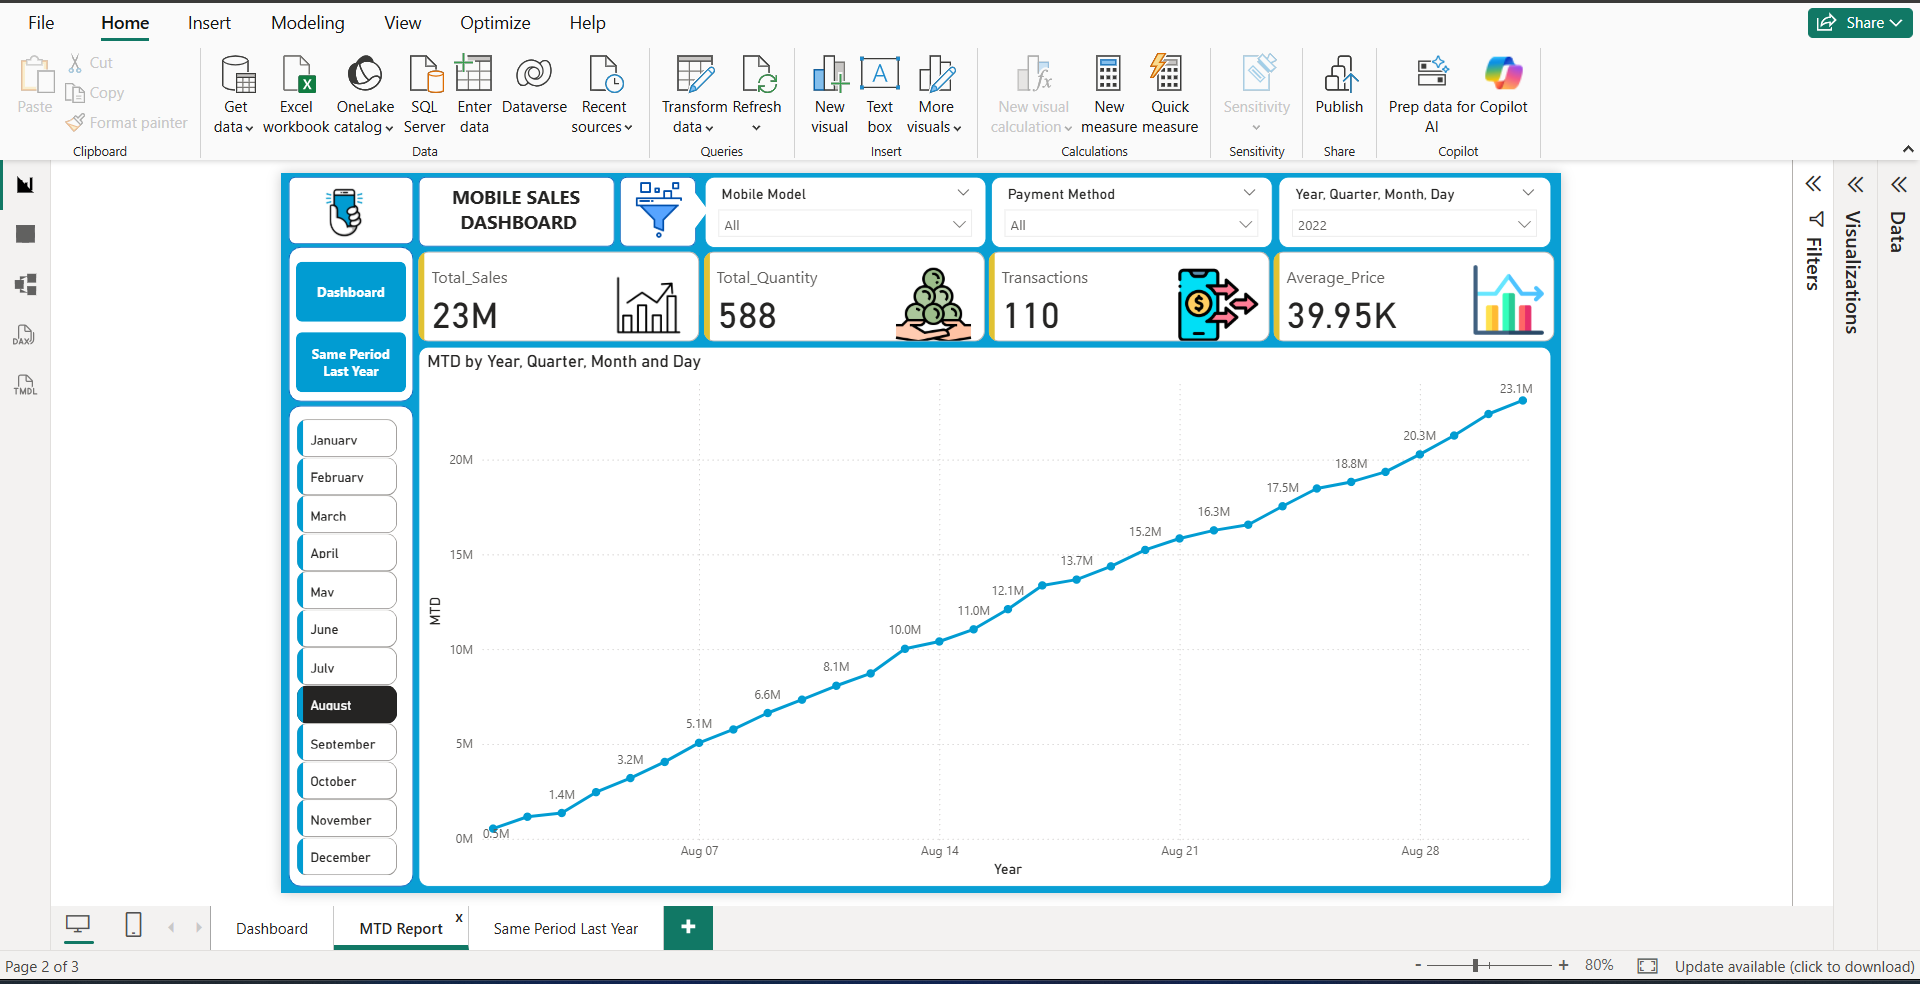

Layout of this report page (visuals, bound fields, positions):
{"tool":"powerbi","page":{"name":"MTD Report","canvas":[1280,720],"ordinal":1},"visuals":[{"type":"shape","box":[7.5,3.8,125,67.5],"z":0},{"type":"image","box":[23.8,3.8,78.8,71.2],"z":1000},{"type":"shape","box":[7.5,73.8,125,155],"z":2000},{"type":"cardVisual","fields":{"Data":["Sales_Data.Total_Sales","Sales_Data.Total_Quantity","Sales_Data.Transactions","Sales_Data.Average_Price"]},"box":[132.5,73.8,1147.5,100],"z":3000},{"type":"slicer","fields":{"Values":["Sales_Data.Mobile Model"]},"box":[423.8,3.8,281.2,71.2],"z":4000},{"type":"slicer","fields":{"Values":["Sales_Data.Payment Method"]},"box":[710,3.8,281.2,71.2],"z":5000},{"type":"slicer","fields":{"Values":["Custom_Calendar.Date.Variation.Date Hierarchy.Year","Custom_Calendar.Date.Variation.Date Hierarchy.Quarter","Custom_Calendar.Date.Variation.Date Hierarchy.Month","Custom_Calendar.Date.Variation.Date Hierarchy.Day"]},"box":[997.5,3.8,272.5,71.2],"z":6000},{"type":"shape","box":[338.8,3.8,76.2,70],"z":7000},{"type":"image","box":[337.5,3.8,81.2,66.2],"z":8000},{"type":"shape","box":[397.5,17.5,30,40],"z":9000},{"type":"shape","box":[137.5,3.8,196.2,70],"z":10000},{"type":"textbox","box":[156.2,6.2,162.5,63.8],"z":11000},{"type":"lineChart","fields":{"Y":["Sales_Data.MTD"],"Category":["Custom_Calendar.Date.Variation.Date Hierarchy.Year","Custom_Calendar.Date.Variation.Date Hierarchy.Quarter","Custom_Calendar.Date.Variation.Date Hierarchy.Month","Custom_Calendar.Date.Variation.Date Hierarchy.Day"]},"box":[137.5,173.8,1132.5,540],"z":12000},{"type":"shape","box":[7.5,232.5,125,481.2],"z":13000},{"type":"advancedSlicerVisual","fields":{"Values":["Custom_Calendar.Date.Variation.Date Hierarchy.Month"]},"box":[11.2,241.2,110,472.5],"z":14000},{"type":"pageNavigator","box":[15,88.8,110,130],"z":15000}]}

Visuals, with their boxes on the page's 1280x720 design canvas (x1, y1, x2, y2). These are canvas units, not pixel positions in the 1920x984 screenshot, which may show the page scaled, cropped or inside an application window:
shape: box=[8, 4, 132, 71]
image: box=[24, 4, 103, 75]
shape: box=[8, 74, 132, 229]
cardVisual - Sales_Data.Total_Sales x Sales_Data.Total_Quantity: box=[132, 74, 1280, 174]
slicer - Sales_Data.Mobile Model: box=[424, 4, 705, 75]
slicer - Sales_Data.Payment Method: box=[710, 4, 991, 75]
slicer - Custom_Calendar.Date.Variation.Date Hierarchy.Year x Custom_Calendar.Date.Variation.Date Hierarchy.Quarter: box=[998, 4, 1270, 75]
shape: box=[339, 4, 415, 74]
image: box=[338, 4, 419, 70]
shape: box=[398, 18, 428, 58]
shape: box=[138, 4, 334, 74]
textbox: box=[156, 6, 319, 70]
lineChart - Sales_Data.MTD x Custom_Calendar.Date.Variation.Date Hierarchy.Year: box=[138, 174, 1270, 714]
shape: box=[8, 232, 132, 714]
advancedSlicerVisual - Custom_Calendar.Date.Variation.Date Hierarchy.Month: box=[11, 241, 121, 714]
pageNavigator: box=[15, 89, 125, 219]
